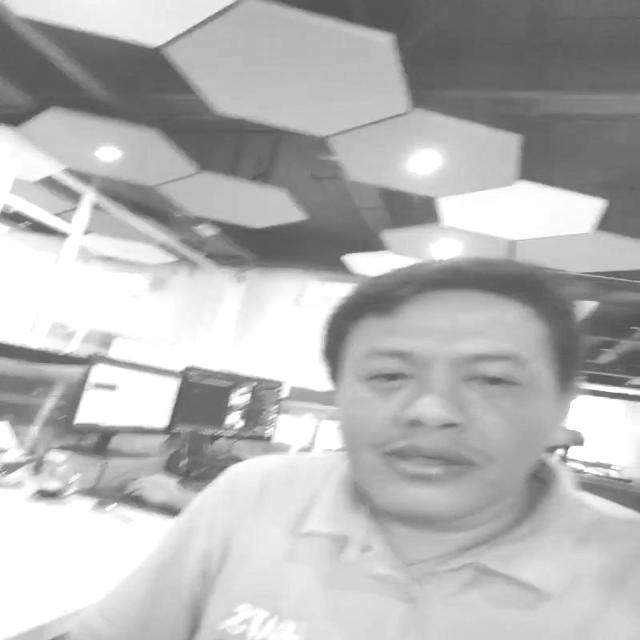real: (336, 298, 556, 516)
